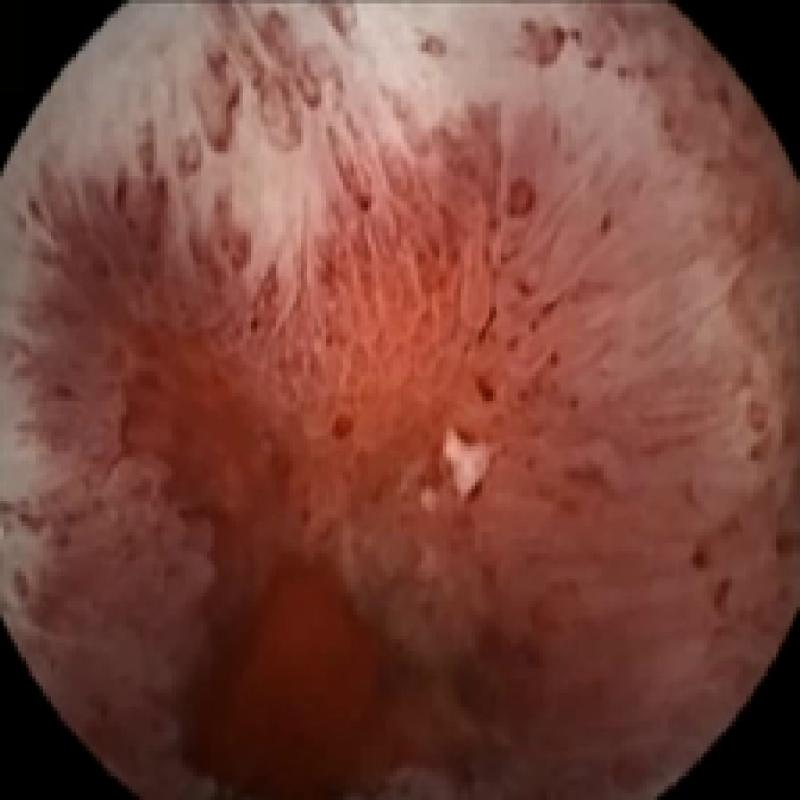bleeding: (7, 153, 621, 800)
